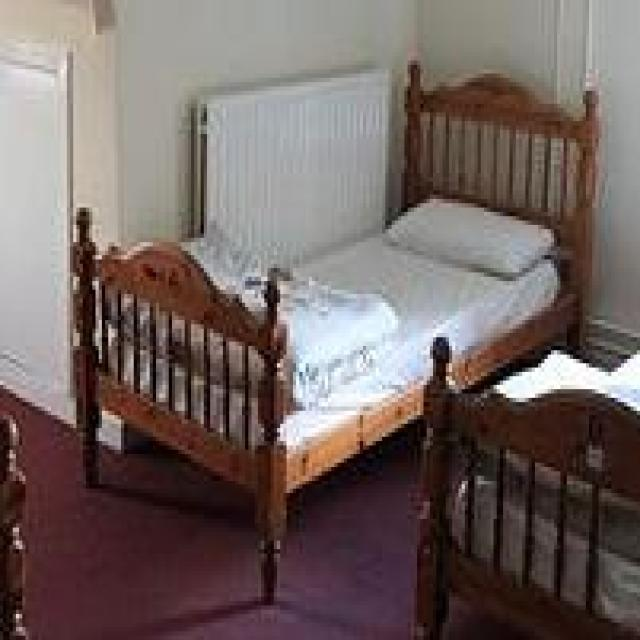bed: (67, 56, 602, 601), (411, 333, 637, 636)
